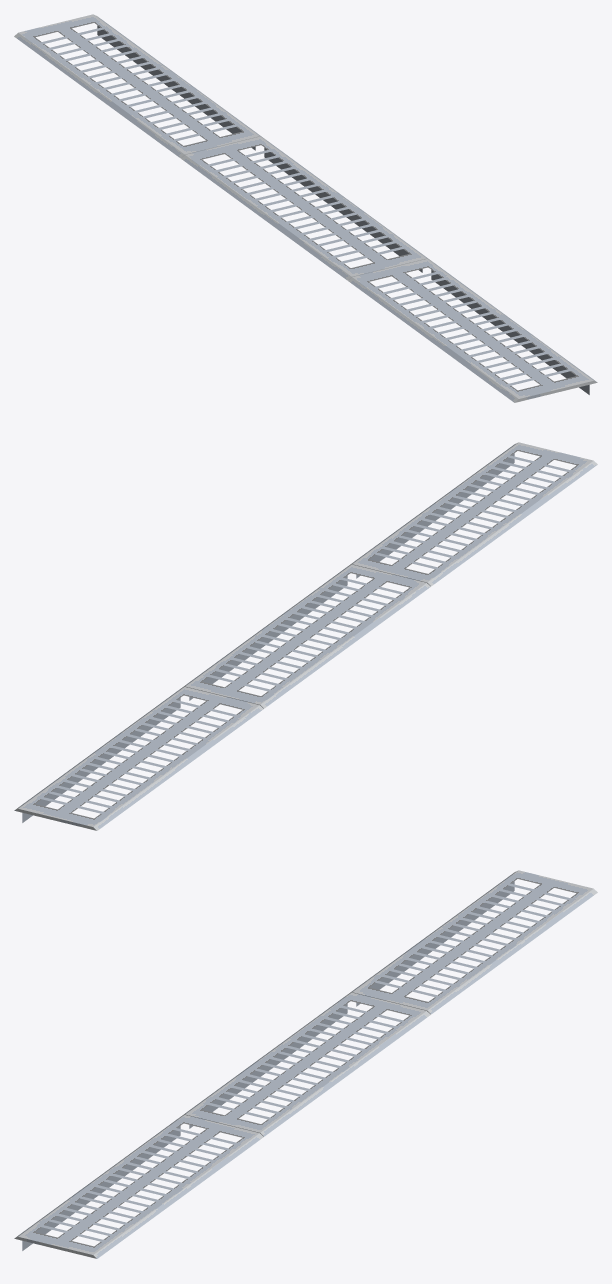
The model's file is kd_stage_135d18_4_153.glb.
3 views of the same model, one above another, from view 1: azimuth 30°, elevation 25°; view 2: azimuth 150°, elevation 25°; view 3: azimuth 330°, elevation 25° (orthographic).
Parts seen in each view (by area): view 1: kd_stage_135d18_4_153; view 2: kd_stage_135d18_4_153; view 3: kd_stage_135d18_4_153.
Boxes of the visible parts, x1=… form: kd_stage_135d18_4_153: x1=14, y1=14, x2=597, y2=402; kd_stage_135d18_4_153: x1=14, y1=442, x2=597, y2=830; kd_stage_135d18_4_153: x1=14, y1=870, x2=597, y2=1258.
Size of the model in its own units: 0.416 by 0.0842 by 4.33.
1 material, 1 textured.
